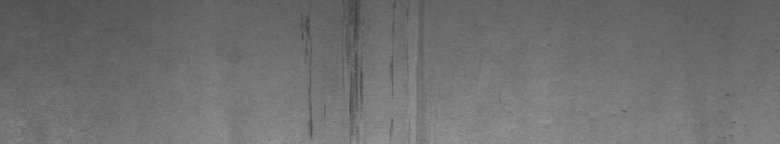ka: (302, 4, 423, 136)
